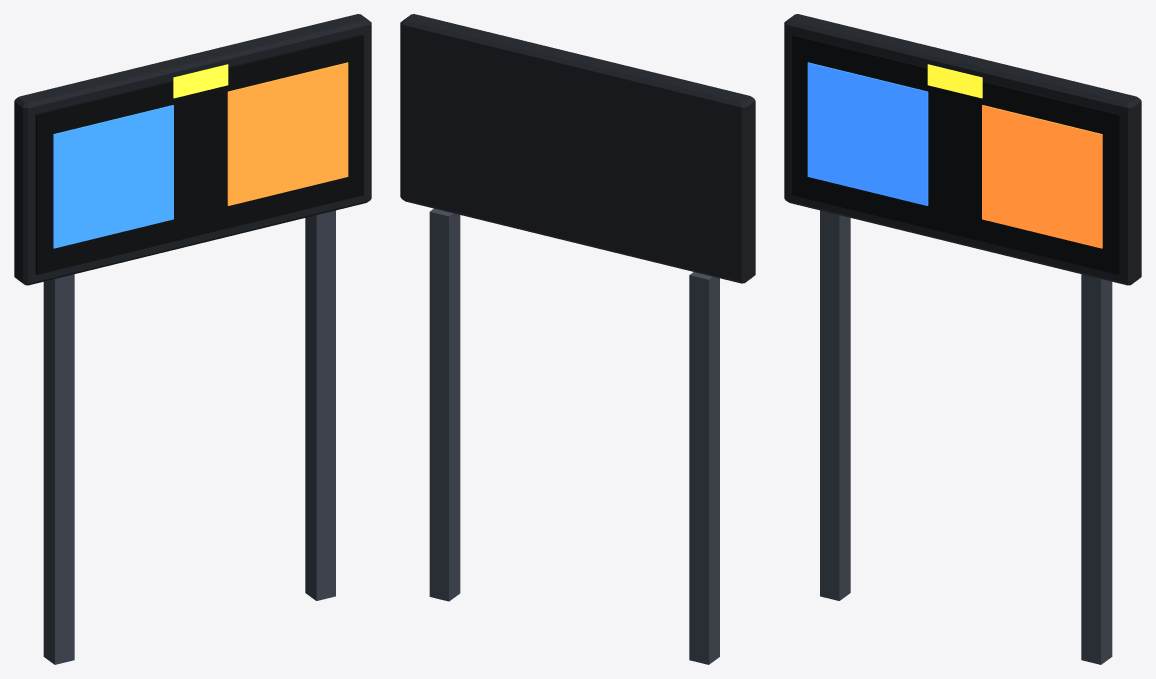
The model's file is scoreboard_stand.glb.
3 views of the same model, side by side, from view 1: azimuth 30°, elevation 25°; view 2: azimuth 150°, elevation 25°; view 3: azimuth 330°, elevation 25° (orthographic).
Visible parts, largest first — view 1: scoreboard_stand; view 2: scoreboard_stand; view 3: scoreboard_stand.
Part boxes in pixels (left/top/right/bottom): scoreboard_stand: left=14, top=14, right=371, bottom=664; scoreboard_stand: left=400, top=14, right=755, bottom=664; scoreboard_stand: left=784, top=14, right=1141, bottom=664.
Bounding box in the file's own units: 3.2 × 5 × 0.27.
